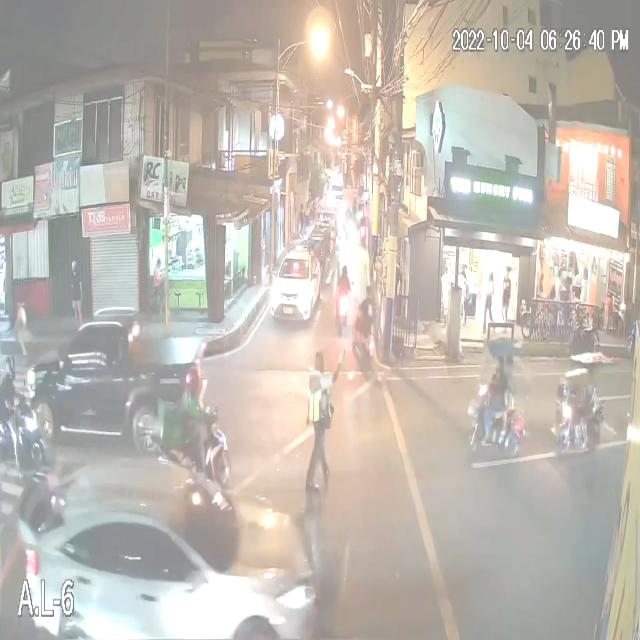Full-Faced: (180, 362, 204, 396), (0, 348, 17, 384), (339, 258, 349, 280)
